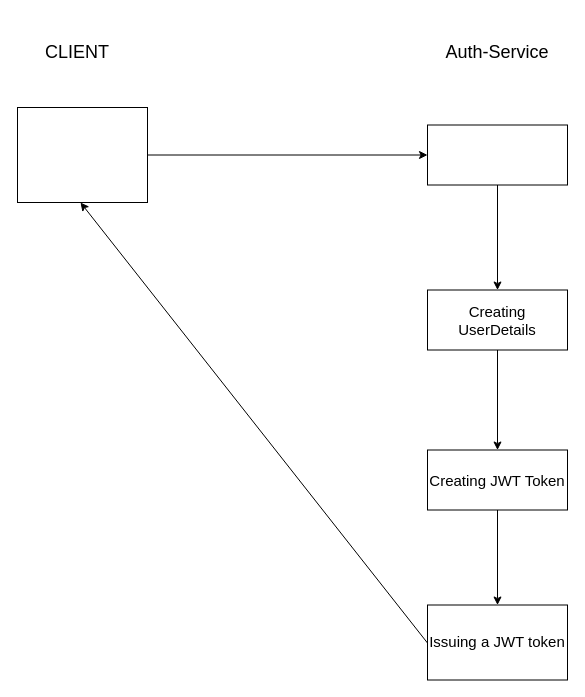
The diagram is 585 pixels wide and 697 high, and some of its shapes have lost their labels. The shapes that lost their labels are listed below. From the top down, each one's centre as x and y in pixels, then its label:
At (82,154): "Request with Login and Password to localhost:9000/login".
At (497,154): "User data validation".
